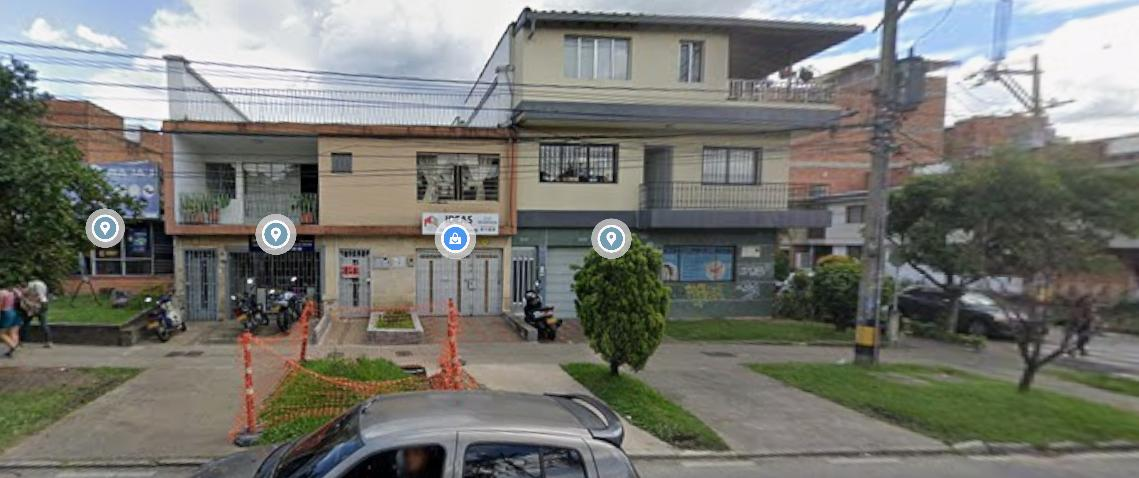casa: (467, 8, 862, 317), (164, 122, 516, 317)
poste: (855, 0, 927, 363), (977, 55, 1070, 145)
